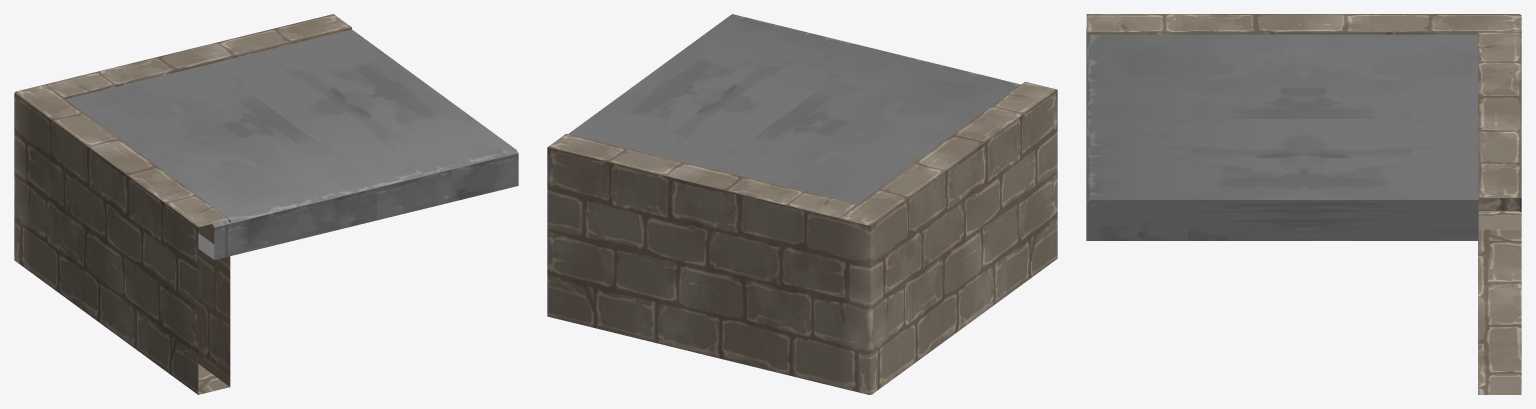
The model's file is Stairs_Exterior_Platform45Clean.gltf.
3 views of the same model, side by side, from view 1: azimuth 30°, elevation 25°; view 2: azimuth 150°, elevation 25°; view 3: azimuth 270°, elevation 25° (orthographic). The views are drawn at different scales.
Parts seen in each view (by area): view 1: Stairs_Exterior_Platform45Clean; view 2: Stairs_Exterior_Platform45Clean; view 3: Stairs_Exterior_Platform45Clean.
Part boxes in pixels (<box>): Stairs_Exterior_Platform45Clean: <box>14,14,518,394</box>; Stairs_Exterior_Platform45Clean: <box>547,14,1057,394</box>; Stairs_Exterior_Platform45Clean: <box>1086,14,1521,394</box>.
Size of the model in its own units: 2 by 1 by 2.
2 materials, 2 textured.
